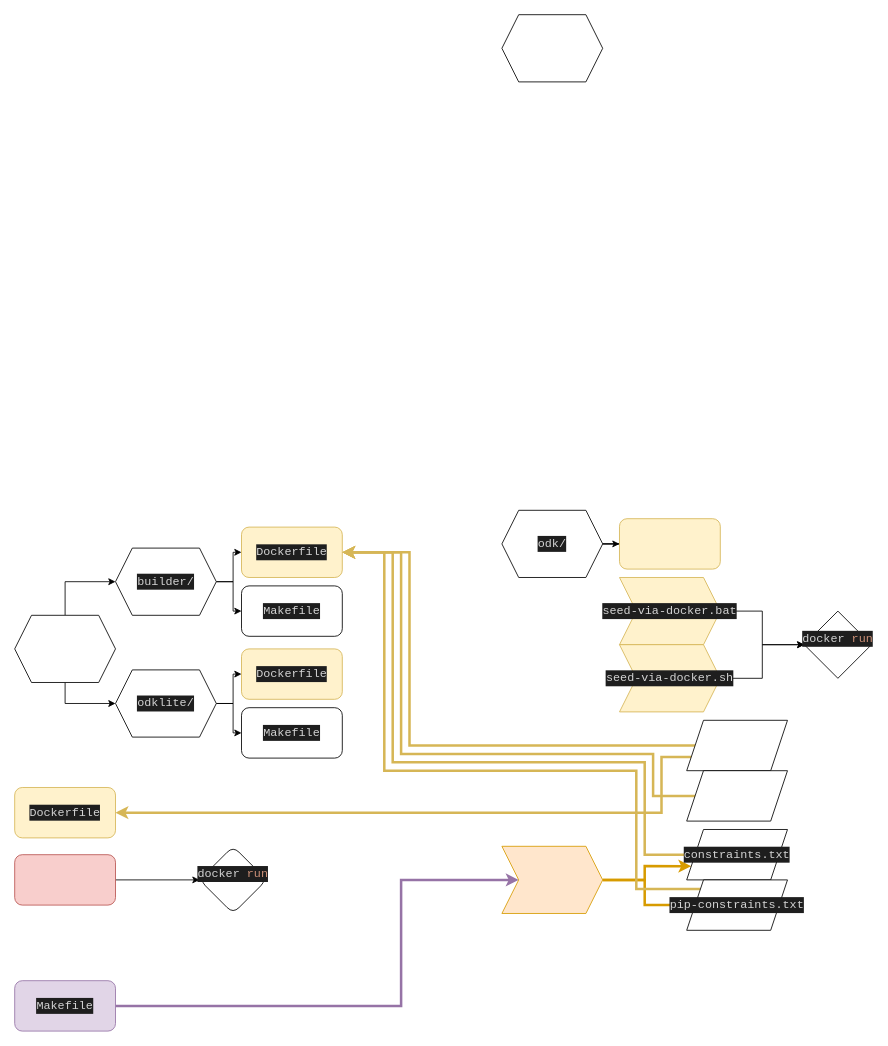
Image size: 888x1046. Some labels were removed from this diagram. Here are the shapes that lost their labels. From the top down, the centre of each, then its label:
(552,48): template/
(669,543): odk.py
(65,648): docker/
(737,745): requirements.txt.full
(737,795): requirements.txt.lite
(65,879): odk.sh
(552,879): update-constraints.sh
